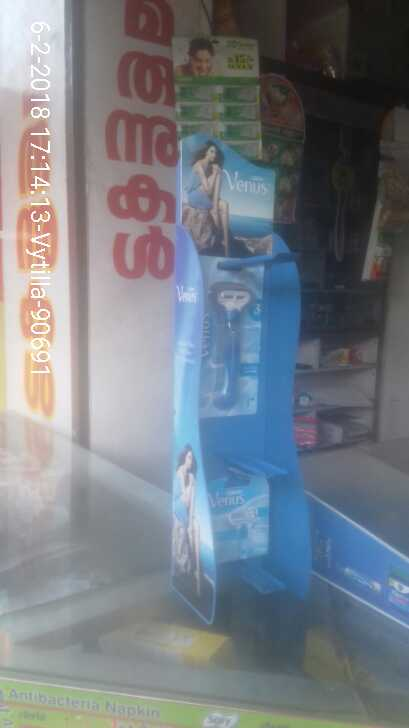venus: (191, 252, 264, 420), (206, 466, 278, 570)
